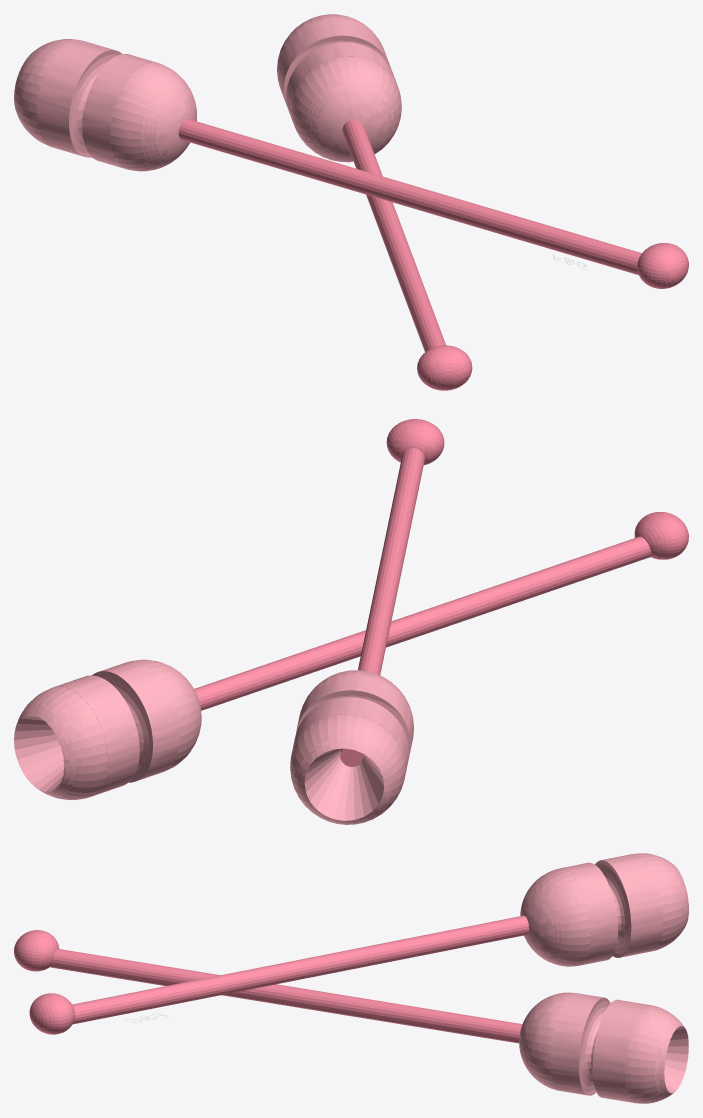
File: clavette.gltf
The picture shows the model from 3 angles, top to bottom: view 1: azimuth 30°, elevation 25°; view 2: azimuth 150°, elevation 25°; view 3: azimuth 270°, elevation 25°; orthographic projection. The views are drawn at different scales.
Parts seen in each view (by area): view 1: group_0_16740486, group_0_16729955; view 2: group_0_16740486, group_0_16729955; view 3: group_0_16740486, group_0_16729955.
Boxes of the visible parts, x1=… form: group_0_16740486: x1=14, y1=14, x2=401, y2=171; group_0_16729955: x1=178, y1=119, x2=688, y2=390; group_0_16740486: x1=14, y1=659, x2=413, y2=824; group_0_16729955: x1=194, y1=419, x2=688, y2=766; group_0_16740486: x1=519, y1=853, x2=688, y2=1103; group_0_16729955: x1=14, y1=915, x2=529, y2=1043.
Bounding box in the file's own units: 0.7495 × 0.28 × 1.36.
